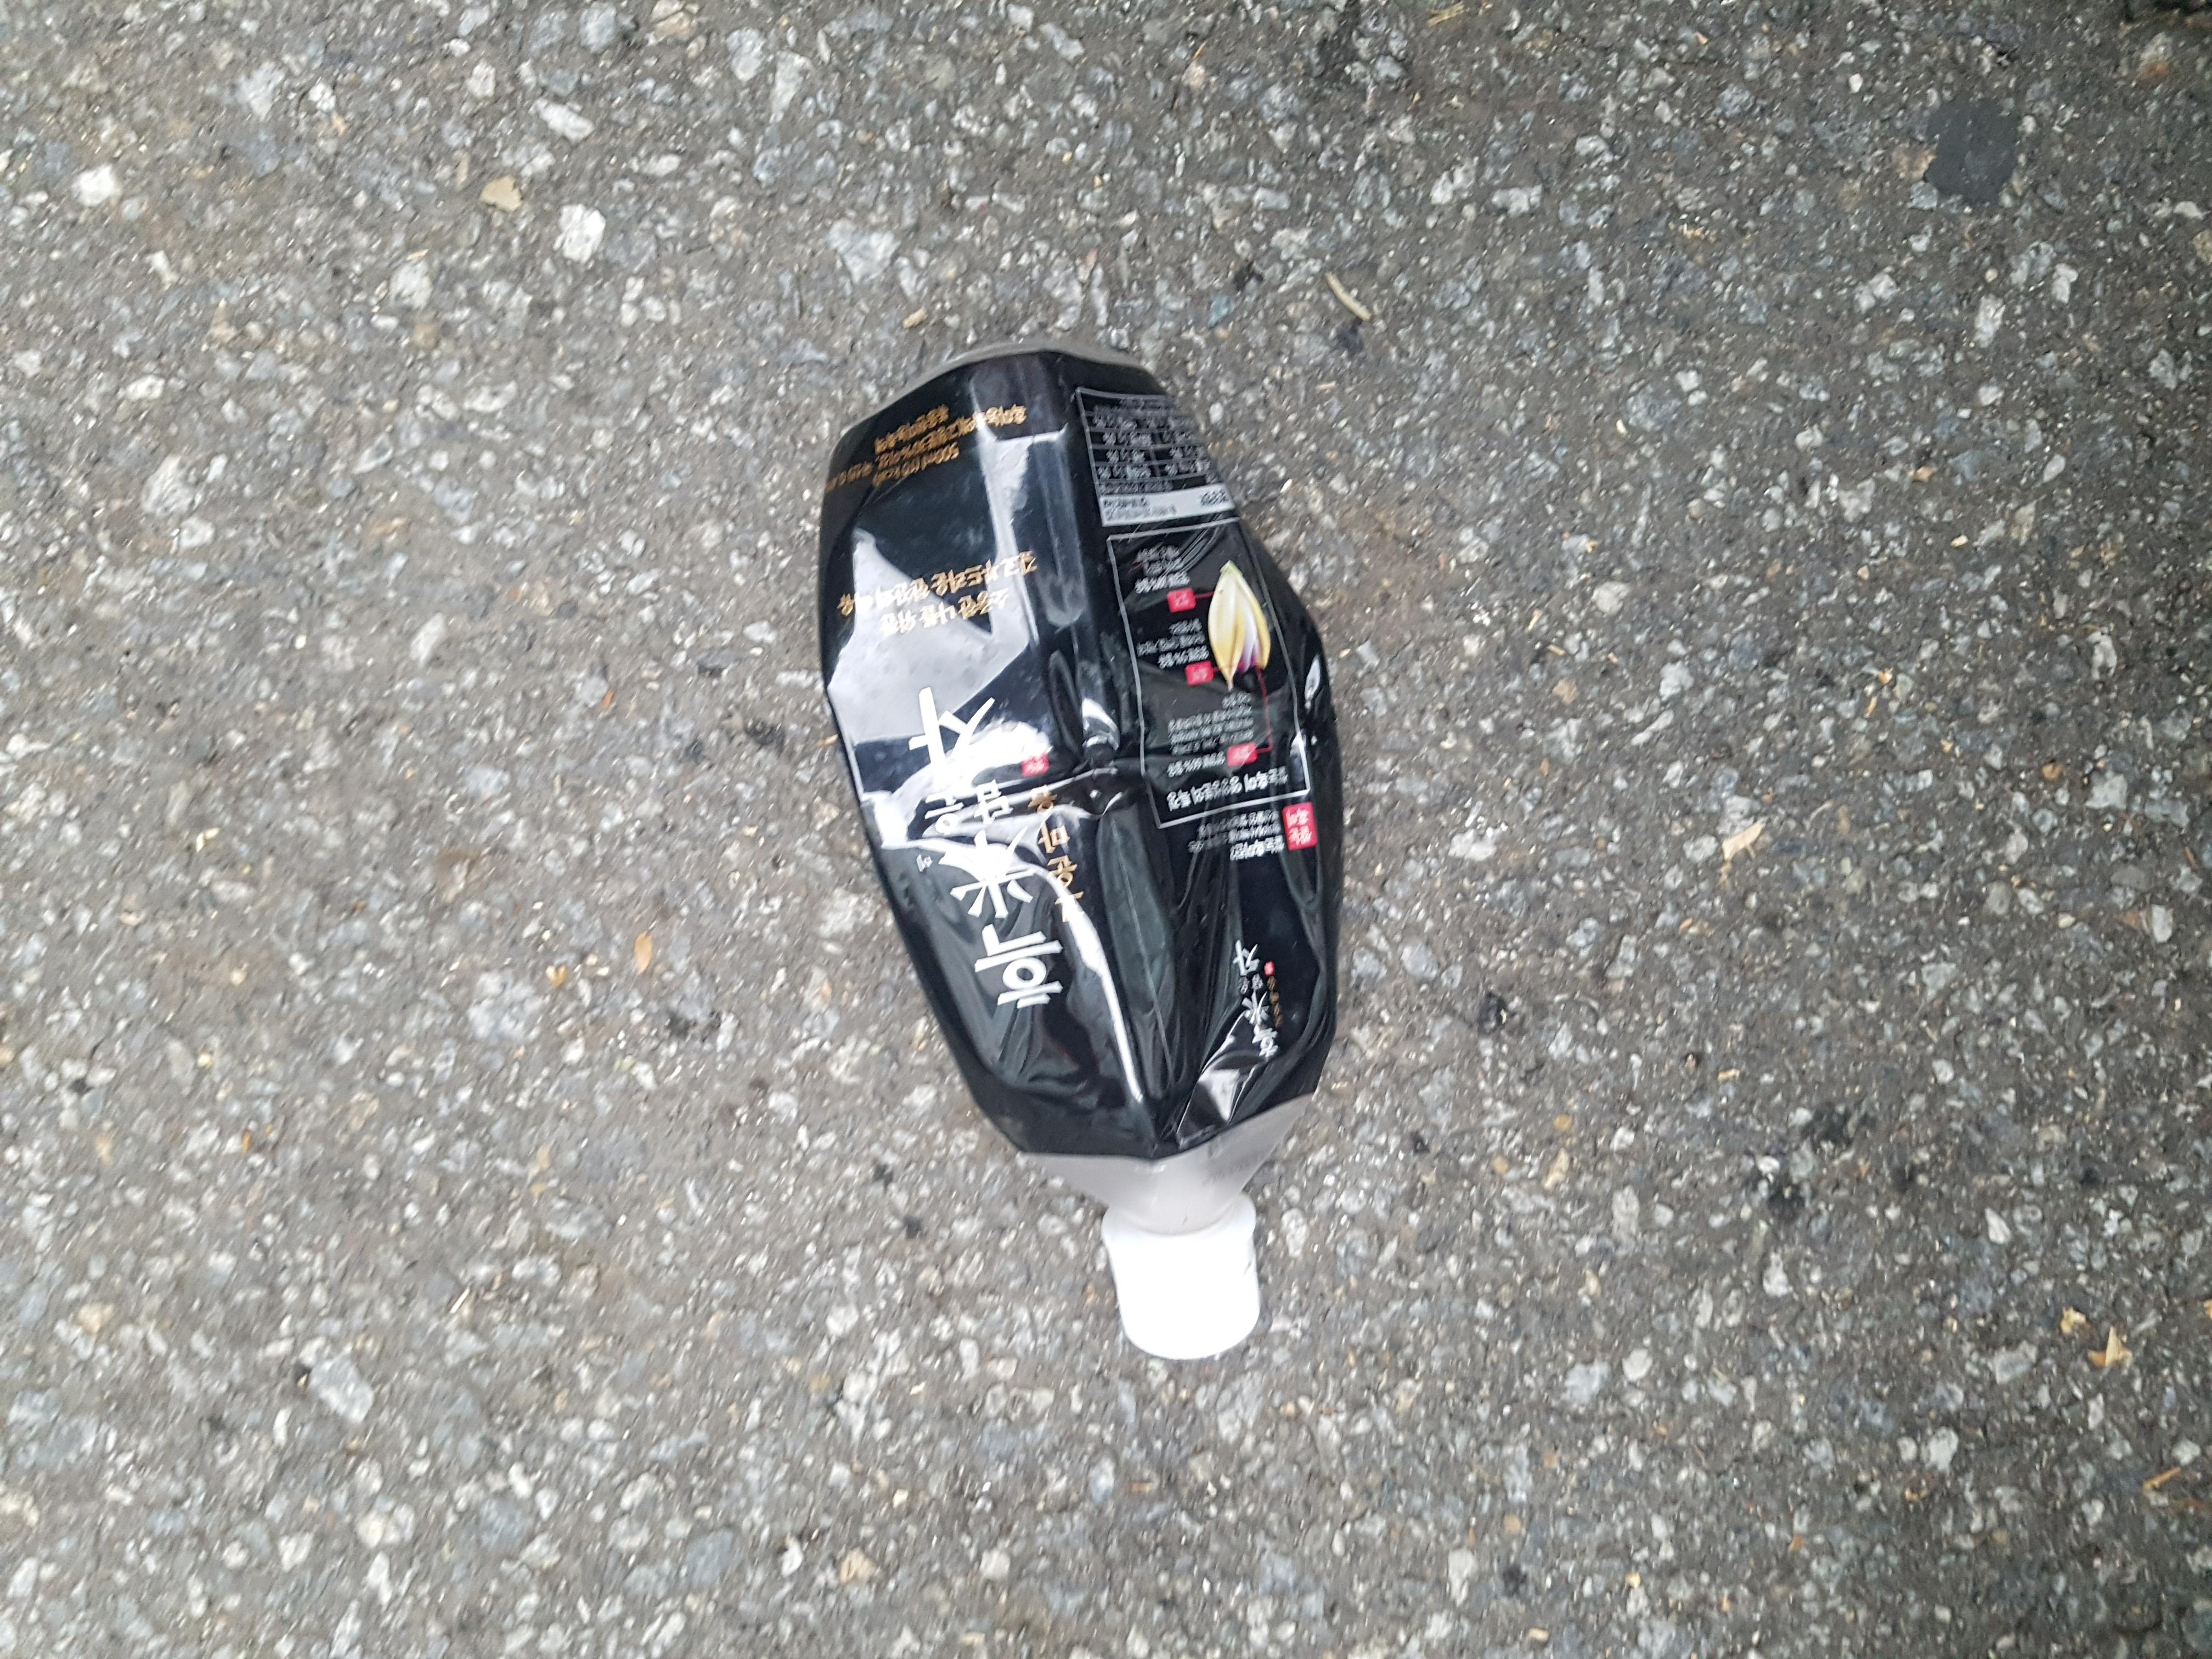bottle: (810, 338, 1386, 1438)
